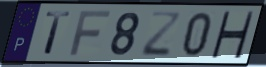0: (180, 11, 215, 58)
8: (110, 11, 141, 57)
F: (68, 10, 113, 58)
H: (208, 10, 256, 60)
T: (42, 10, 73, 56)
Z: (139, 10, 184, 59)
